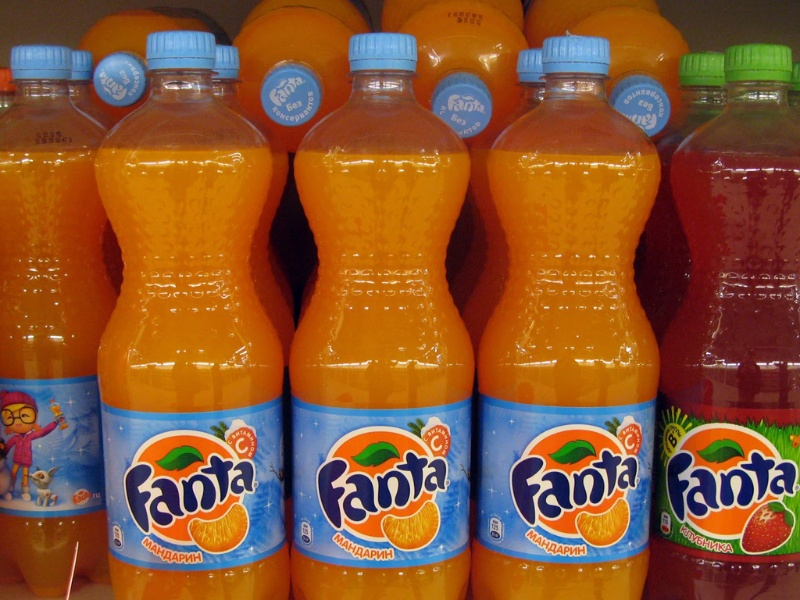lemonade: (72, 9, 309, 598), (257, 16, 484, 593), (467, 33, 666, 600), (638, 20, 800, 598), (3, 34, 136, 600)
